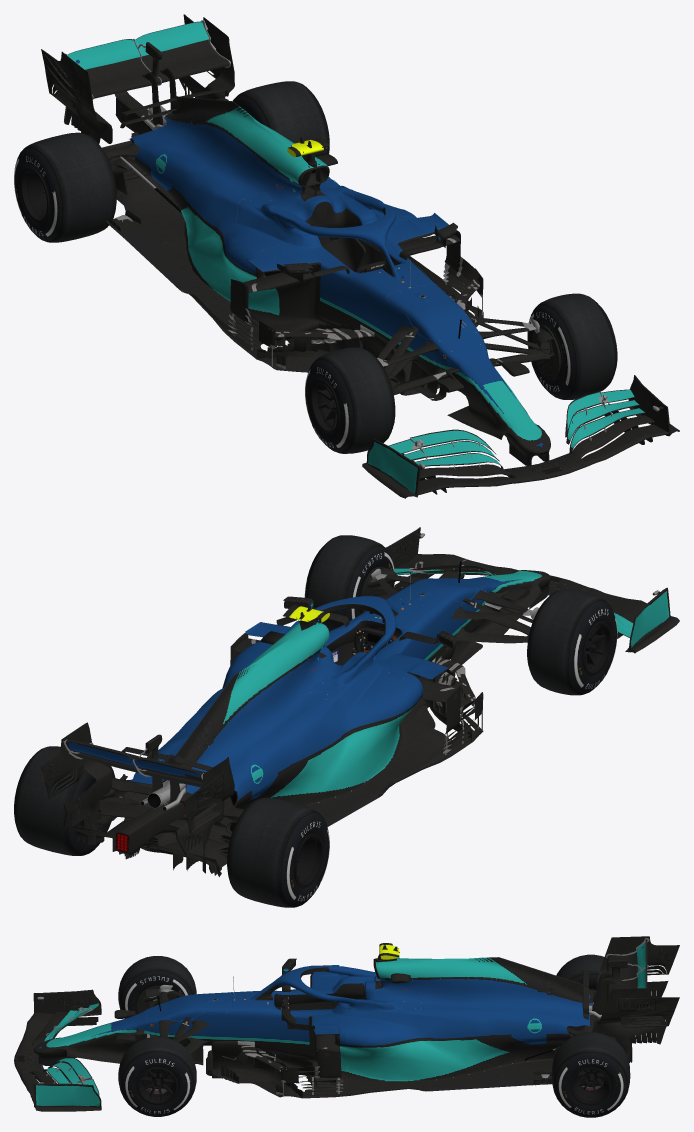
File: f1-car.glb
The picture shows the model from 3 angles, top to bottom: view 1: azimuth 30°, elevation 25°; view 2: azimuth 150°, elevation 25°; view 3: azimuth 270°, elevation 25°; orthographic projection. The views are drawn at different scales.
Parts seen in each view (by area): view 1: car; view 2: car; view 3: car.
Boxes of the visible parts, bbox=[...] form: car: bbox=[14, 14, 679, 498]; car: bbox=[14, 527, 679, 907]; car: bbox=[14, 936, 679, 1117].
Size of the model in its own units: 2.04 by 1.19 by 5.68.
Materials: 8 (7 with a texture image).
